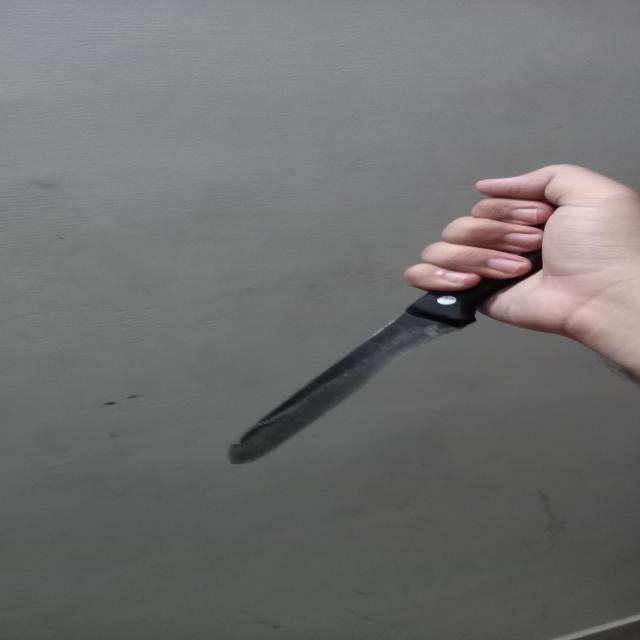Knife: (228, 219, 553, 464)
Person: (408, 164, 640, 392)
